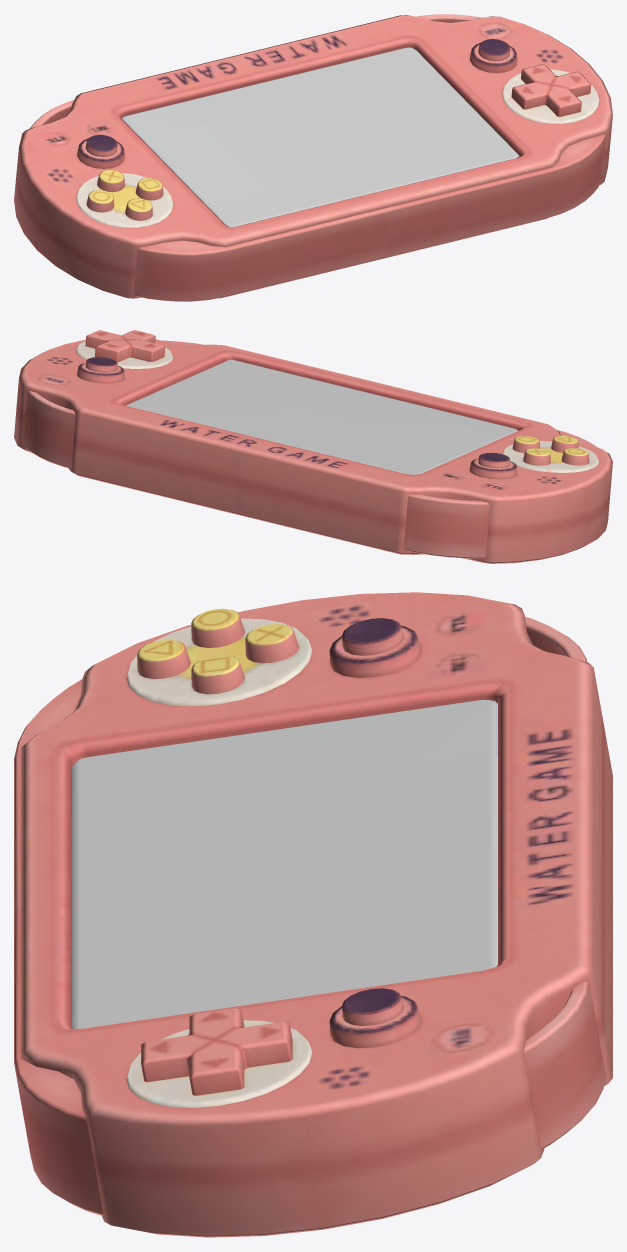
File: ref_gtwatergame.fbx
3 renders of one model, top to bottom at view 1: azimuth 30°, elevation 25°; view 2: azimuth 150°, elevation 25°; view 3: azimuth 270°, elevation 25°, orthographic. The views are drawn at different scales.
Parts seen in each view (by area): view 1: ref_gtwatergame; view 2: ref_gtwatergame; view 3: ref_gtwatergame.
Boxes of the visible parts, x1=… form: ref_gtwatergame: x1=14, y1=14, x2=612, y2=301; ref_gtwatergame: x1=14, y1=330, x2=612, y2=563; ref_gtwatergame: x1=14, y1=592, x2=612, y2=1237.
Size of the model in its own units: 100 by 18.51 by 49.05.
Materials: 1 (1 with a texture image).
